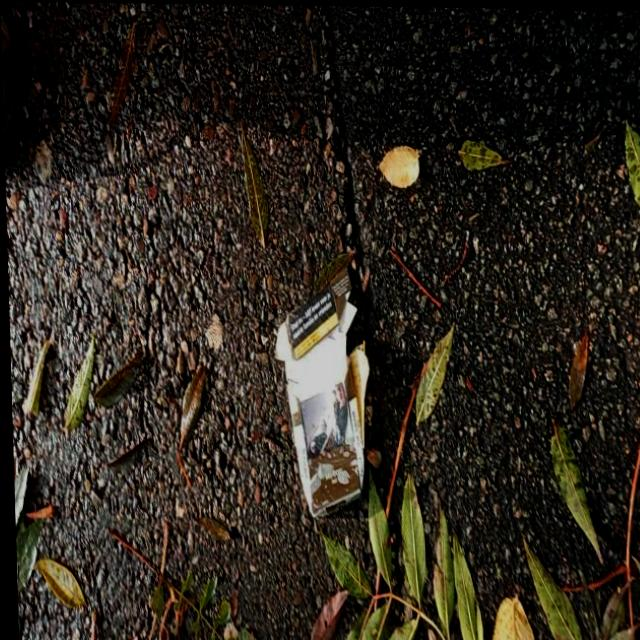Paper: (269, 260, 373, 519)
